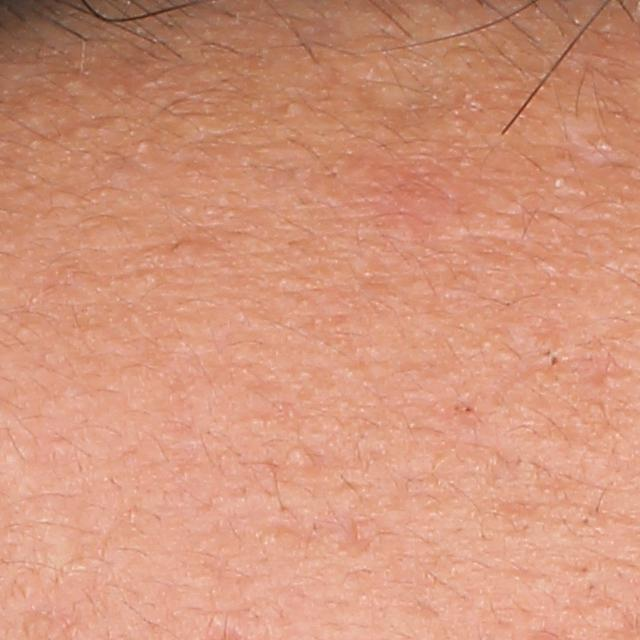comedo: (282, 443, 322, 475), (135, 137, 149, 152)
